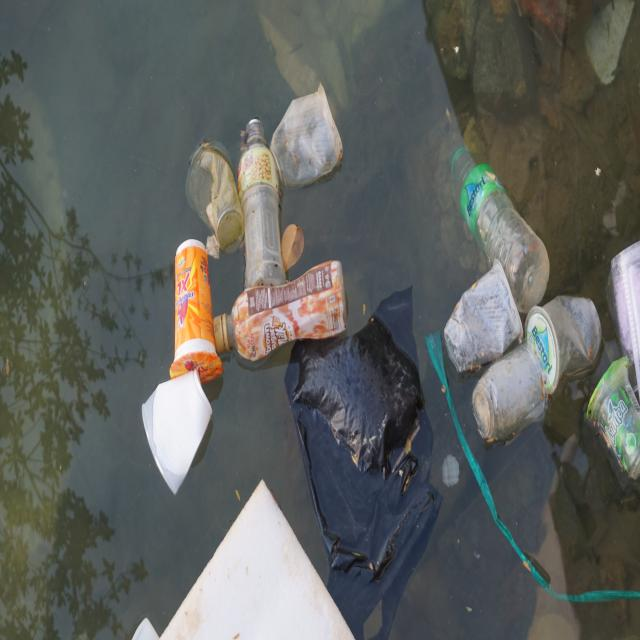Botol Plastik: (447, 131, 551, 314), (209, 262, 353, 357), (234, 110, 290, 293)
Bungkus Minuman: (137, 365, 216, 492), (529, 279, 604, 397), (178, 131, 247, 250), (443, 262, 526, 359), (587, 340, 640, 489), (273, 82, 346, 190), (474, 345, 548, 449), (173, 238, 226, 376)
Kantong Plastik: (283, 293, 447, 631)
